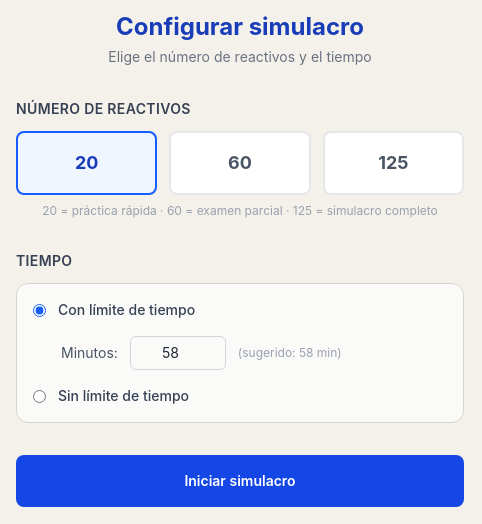
Test: SizePicker › el default de minutos cambia según el tamaño elegido (125→360)
What coordinates should you click on to do the following:
click the button "125"
I would click on:
 (393, 163)
Its box is [323,131,464,195].
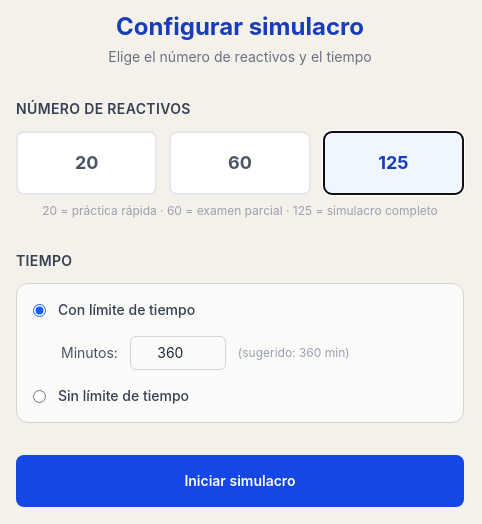
Expected: the text "(sugerido: 360 min)" is shown, [238,345,350,361]
